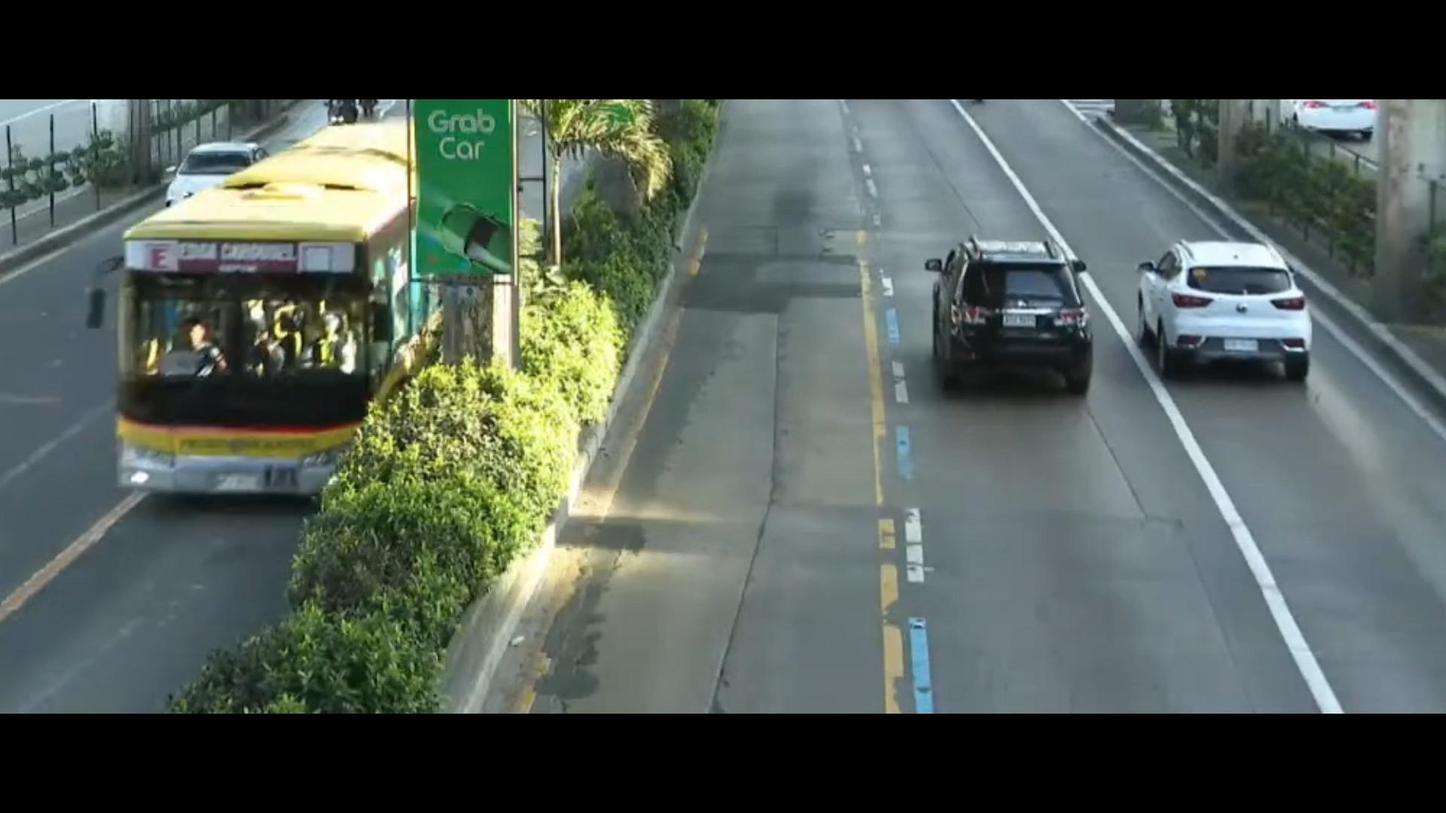Bus: (87, 125, 417, 550)
SUV: (900, 207, 1097, 413), (1119, 226, 1360, 390), (157, 132, 278, 208)
